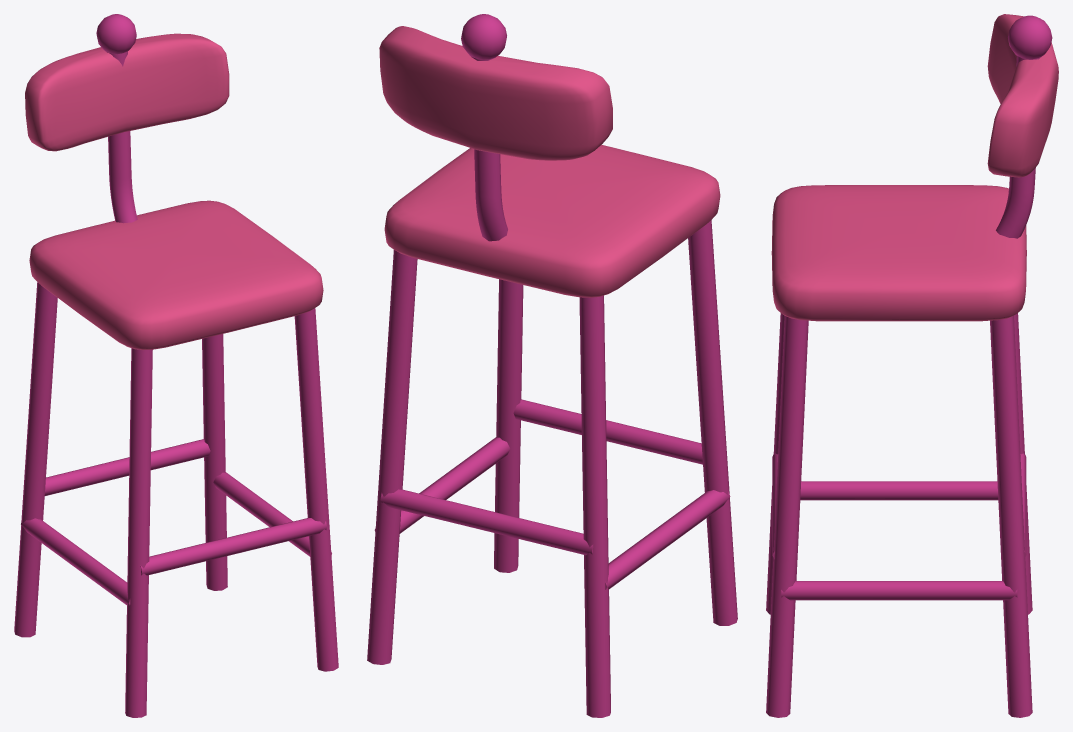
The model's file is banqueta_bar_encosto_rosa.glb.
3 renders of one model, left to right at view 1: azimuth 30°, elevation 25°; view 2: azimuth 150°, elevation 25°; view 3: azimuth 270°, elevation 25°, orthographic. The views are drawn at different scales.
Visible parts, largest first — view 1: banqueta_bar_encosto_rosa; view 2: banqueta_bar_encosto_rosa; view 3: banqueta_bar_encosto_rosa.
Boxes of the visible parts, <box> form: banqueta_bar_encosto_rosa: <box>14,14,338,717</box>; banqueta_bar_encosto_rosa: <box>367,14,737,717</box>; banqueta_bar_encosto_rosa: <box>766,14,1058,717</box>.
Size of the model in its own units: 0.418 by 1.12 by 0.4592.
1 material, 1 textured.
